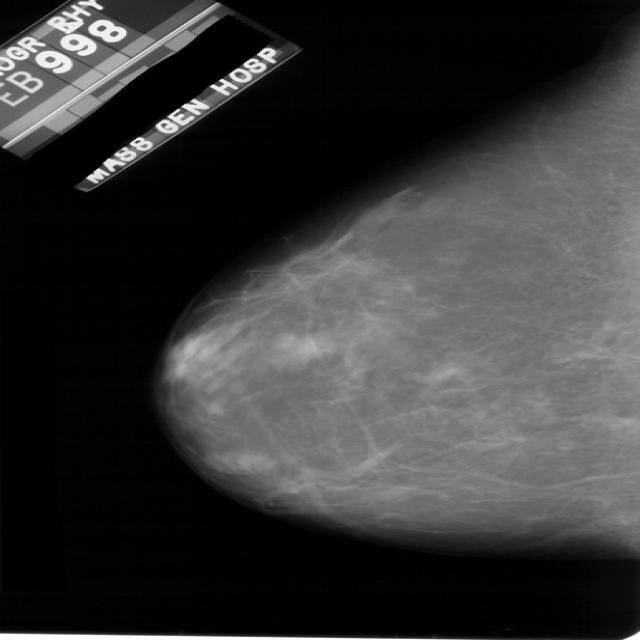tumour: (262, 331, 310, 370)
